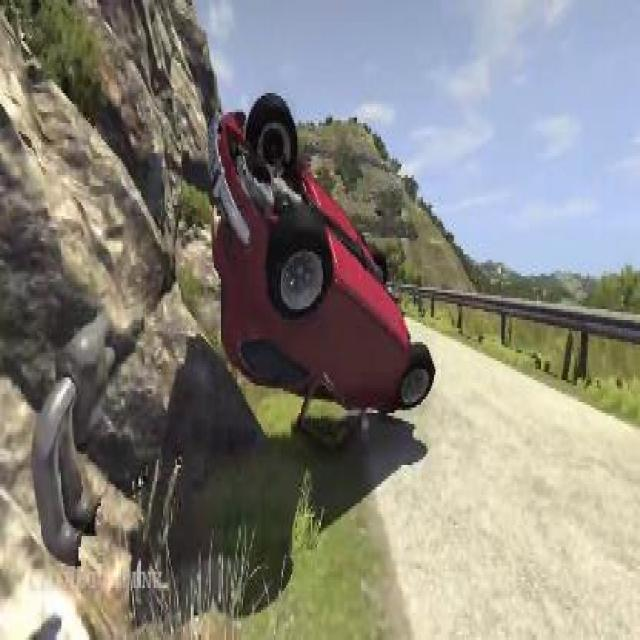accident: (202, 85, 438, 413)
